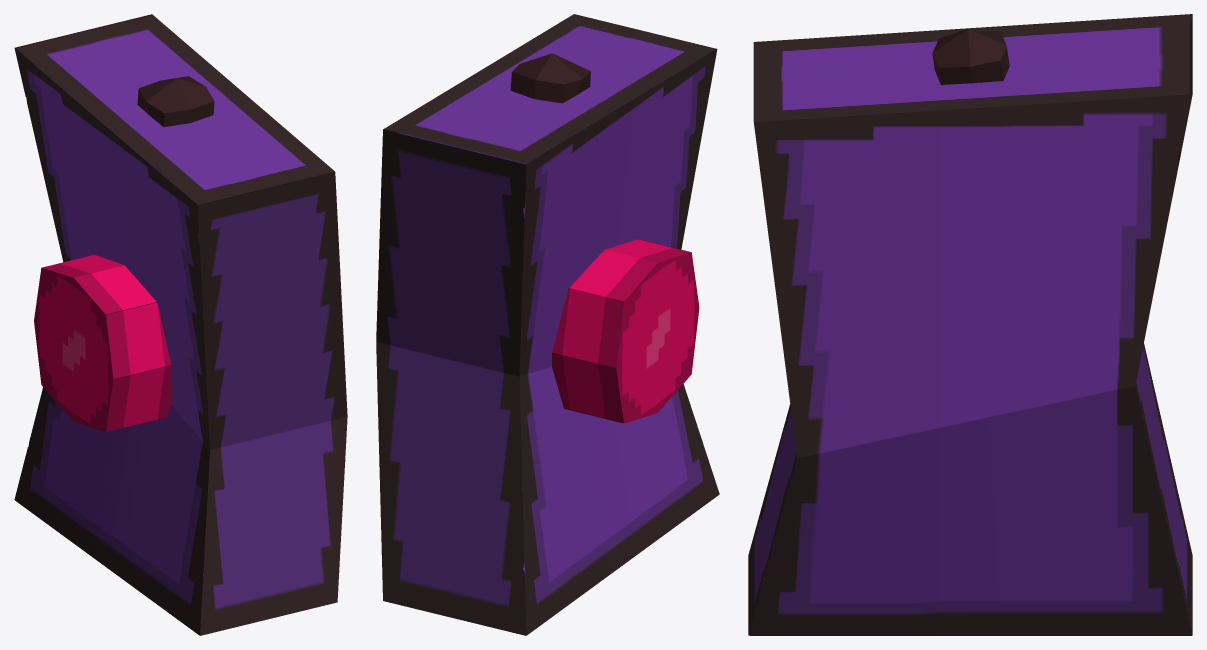
Rendered from rEMOTE.fbx.
The picture shows the model from 3 angles, left to right: view 1: azimuth 30°, elevation 25°; view 2: azimuth 150°, elevation 25°; view 3: azimuth 270°, elevation 25°; orthographic projection. The views are drawn at different scales.
Parts seen in each view (by area): view 1: Cube, Cube.001; view 2: Cube, Cube.001; view 3: Cube.
Boxes of the visible parts, x1,y1,x2,y2 form: Cube: [14, 14, 347, 635]; Cube.001: [34, 254, 171, 431]; Cube: [376, 14, 719, 635]; Cube.001: [552, 239, 699, 423]; Cube: [748, 14, 1192, 635].
Size of the model in its own units: 125 by 282 by 200.
